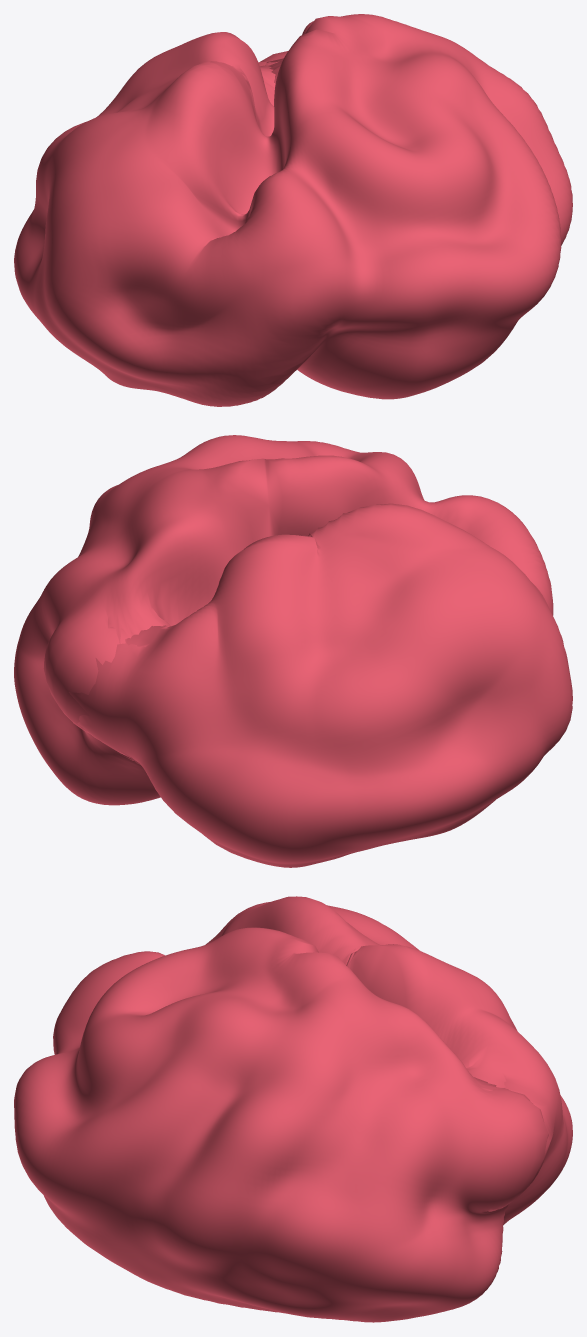
Rendered from brain.glb.
The picture shows the model from 3 angles, top to bottom: view 1: azimuth 30°, elevation 25°; view 2: azimuth 150°, elevation 25°; view 3: azimuth 270°, elevation 25°; orthographic projection.
Parts seen in each view (by area): view 1: Sphere_0; view 2: Sphere_0; view 3: Sphere_0.
Boxes of the visible parts, box(x1,y1,x2,y2) form: Sphere_0: box(14, 14, 572, 406); Sphere_0: box(14, 435, 572, 867); Sphere_0: box(14, 896, 572, 1322).
Bounding box in the file's own units: 2.19 × 1.37 × 2.11.
